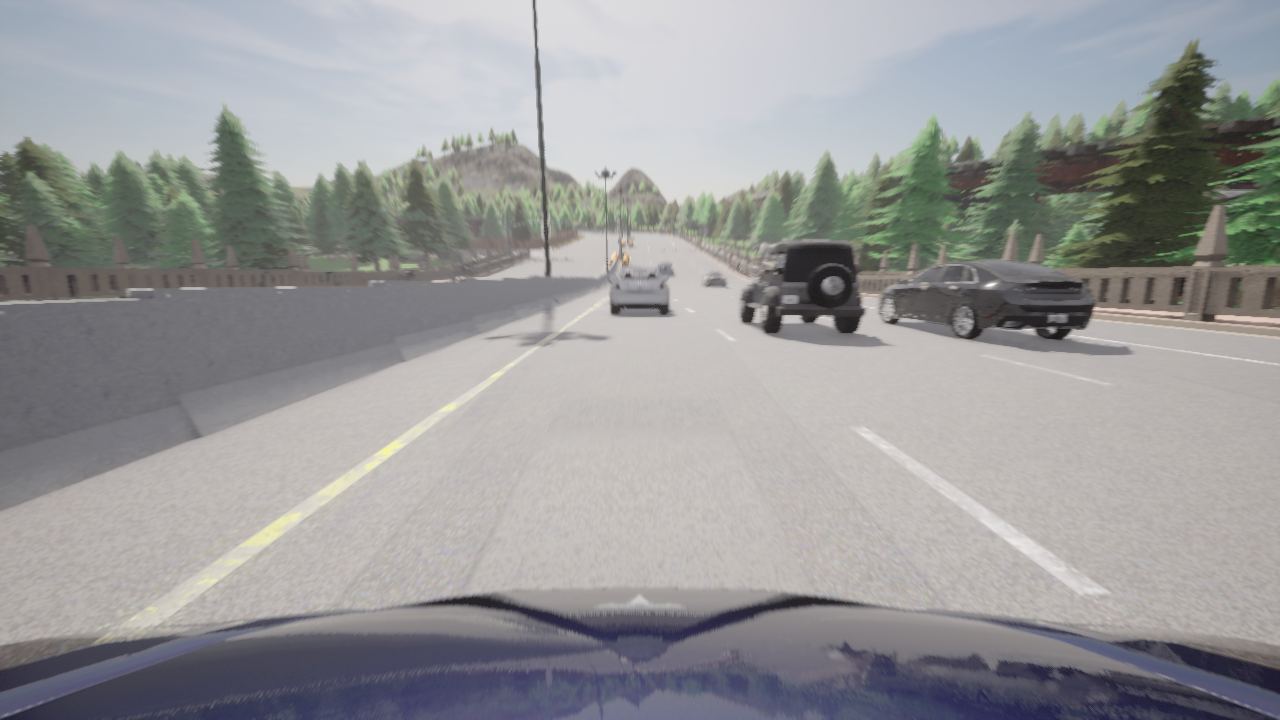cyclist: (0, 588, 1279, 719), (878, 260, 1094, 340), (739, 241, 865, 333), (610, 267, 669, 313), (701, 271, 727, 287), (658, 263, 673, 275), (750, 270, 763, 283)
